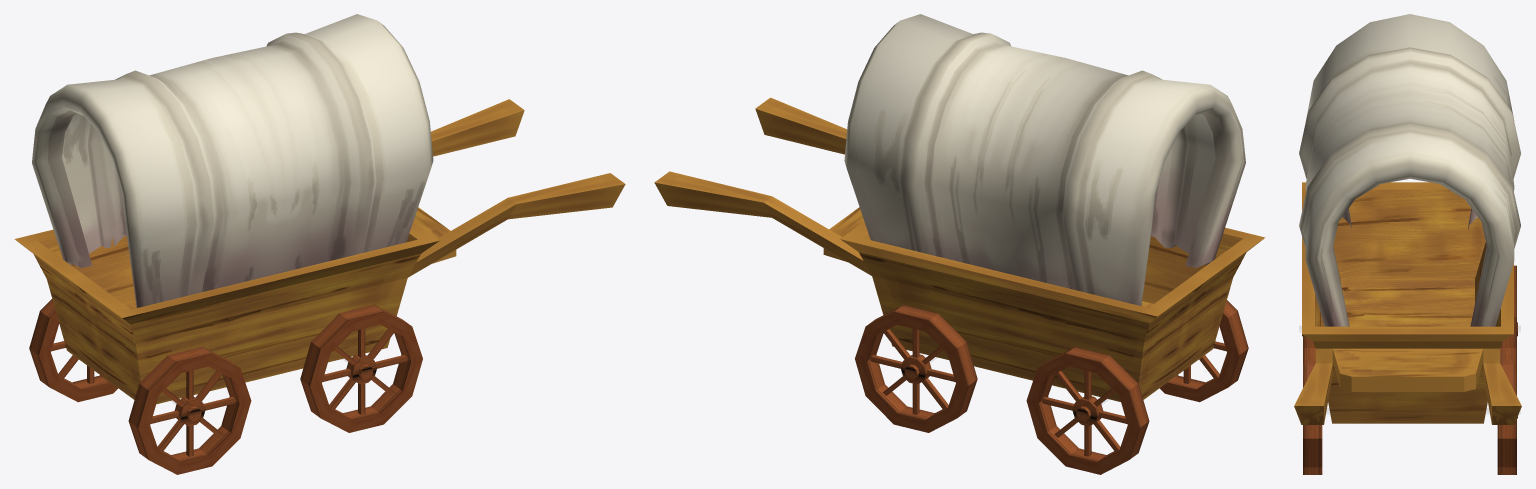
Rendered from Assets_cart.gltf.
The picture shows the model from 3 angles, left to right: view 1: azimuth 30°, elevation 25°; view 2: azimuth 150°, elevation 25°; view 3: azimuth 270°, elevation 25°; orthographic projection. The views are drawn at different scales.
Visible parts, largest first — view 1: Cart, Wheel.001, Wheel; view 2: Cart, Wheel.001, Wheel; view 3: Cart, Wheel, Wheel.001.
Part boxes in pixels (left/top/right/bottom): Cart: left=14, top=14, right=625, bottom=404; Wheel.001: left=29, top=299, right=251, bottom=474; Wheel: left=300, top=305, right=422, bottom=432; Cart: left=654, top=14, right=1265, bottom=401; Wheel.001: left=1026, top=300, right=1248, bottom=474; Wheel: left=855, top=305, right=977, bottom=432; Cart: left=1294, top=14, right=1521, bottom=424; Wheel: left=1303, top=348, right=1517, bottom=474; Wheel.001: left=1302, top=265, right=1517, bottom=347.
Bounding box in the file's own units: 18.21 × 12.28 × 7.34.
1 material, 1 textured.
